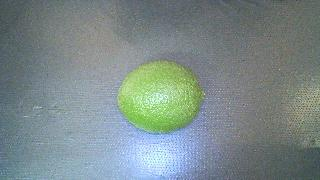EXPORTACION: (117, 61, 204, 133)
